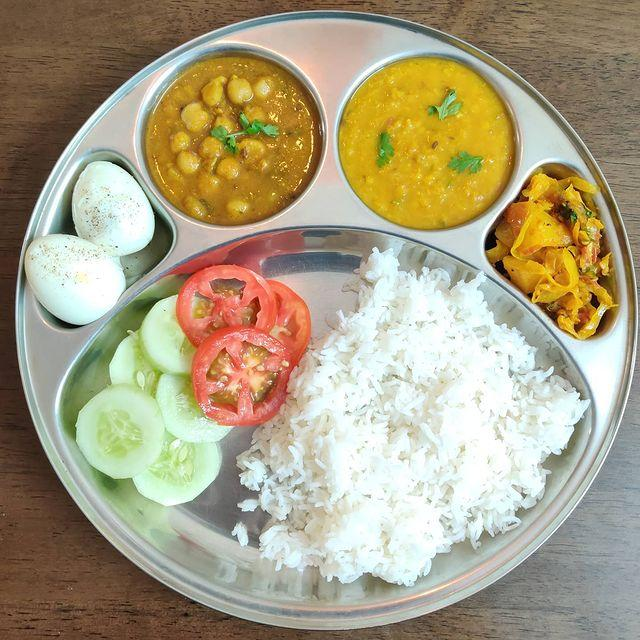Chole: (119, 20, 332, 231)
White Rice: (284, 242, 570, 590)
